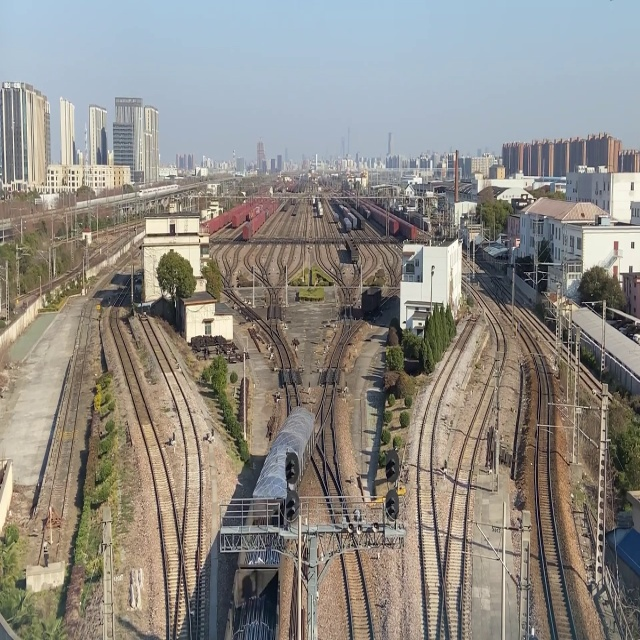train: (232, 401, 321, 640)
